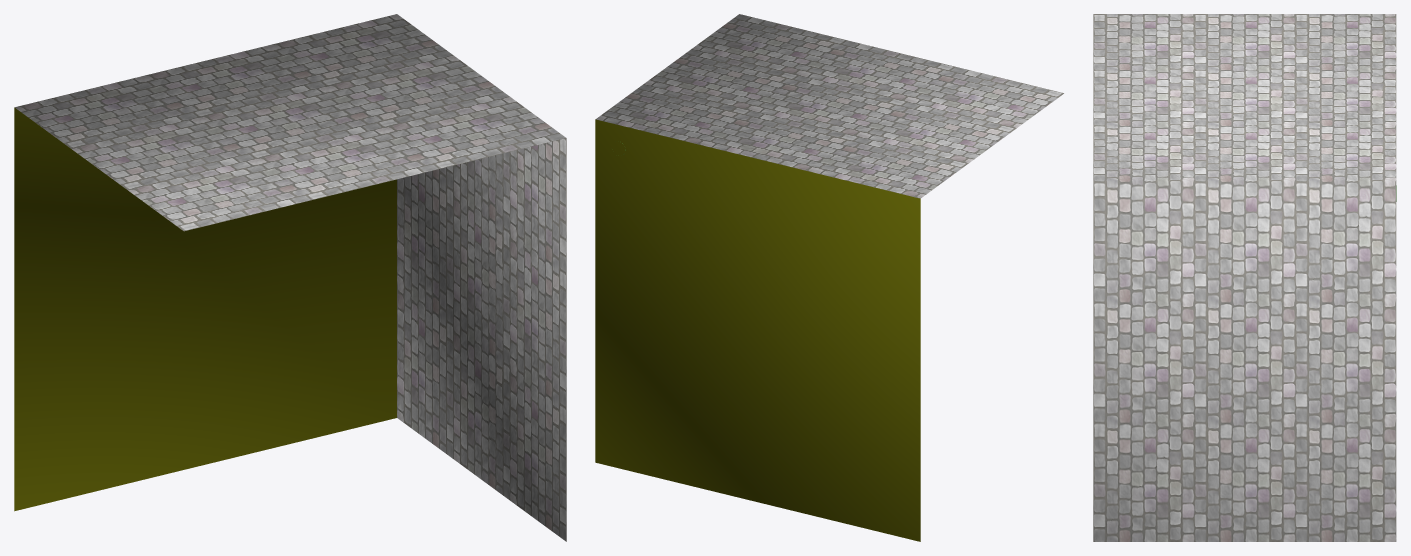
The model's file is Glaeser_liquid3.obj.
3 views of the same model, side by side, from view 1: azimuth 30°, elevation 25°; view 2: azimuth 150°, elevation 25°; view 3: azimuth 270°, elevation 25° (orthographic). The views are drawn at different scales.
Parts seen in each view (by area): view 1: Mesh.001_Room_Box; view 2: Mesh.001_Room_Box; view 3: Mesh.001_Room_Box.
Part boxes in pixels (x1=…): Mesh.001_Room_Box: x1=14, y1=14, x2=566, y2=541; Mesh.001_Room_Box: x1=595, y1=14, x2=1063, y2=541; Mesh.001_Room_Box: x1=1093, y1=14, x2=1396, y2=541.
Size of the model in its own units: 16.84 by 16.99 by 12.92.
Materials: 4 (1 with a texture image).
